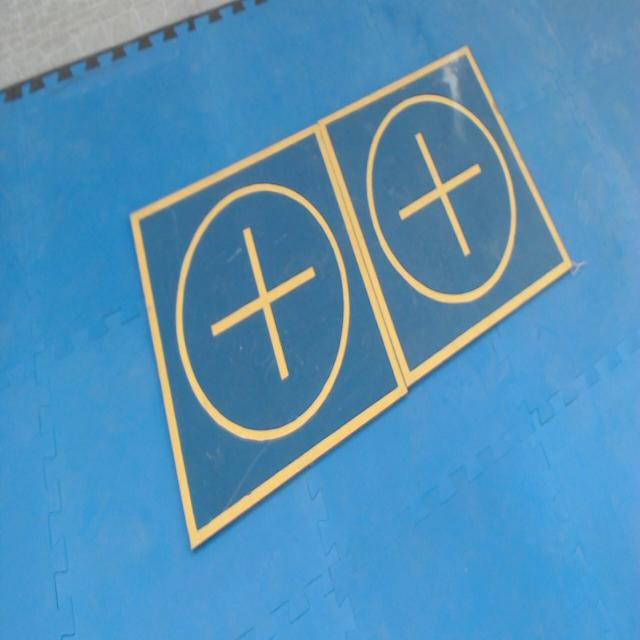base_pouso: (129, 124, 409, 554), (318, 46, 572, 394)
